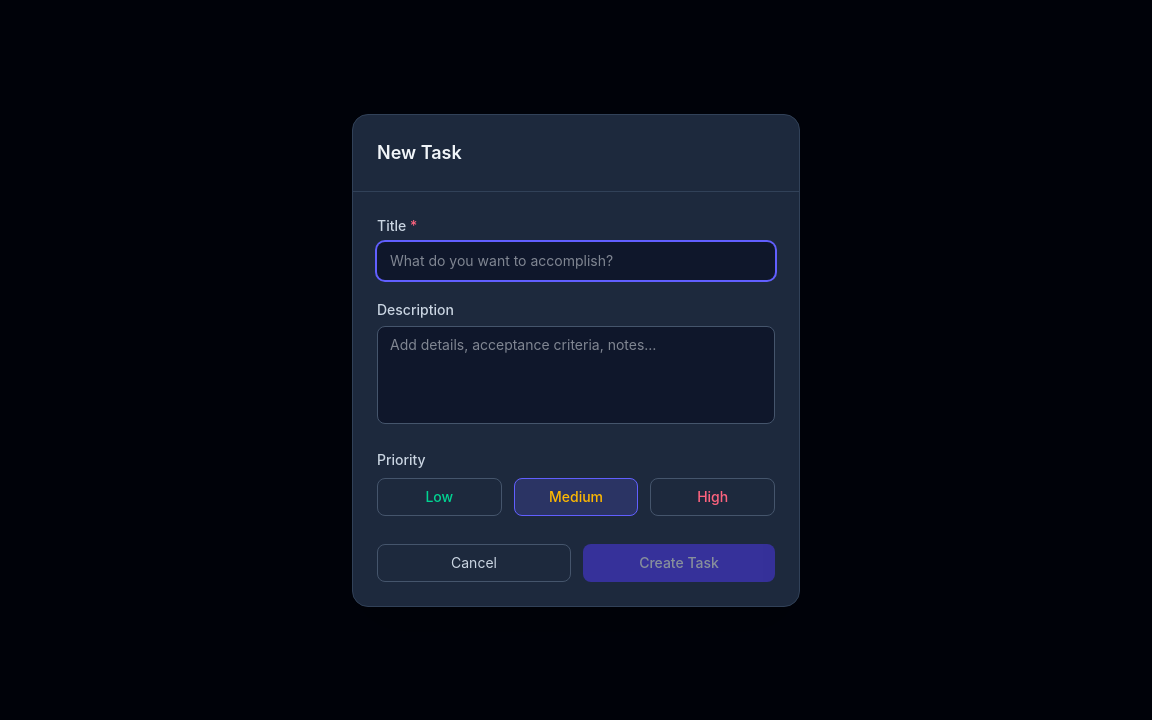
it: TaskForm › enables submit button when title is entered
Type "My new task" into the field with placeholder "What do you want to accomplish?" at (576, 260), box top-left (377, 242), bottom-right (775, 280)
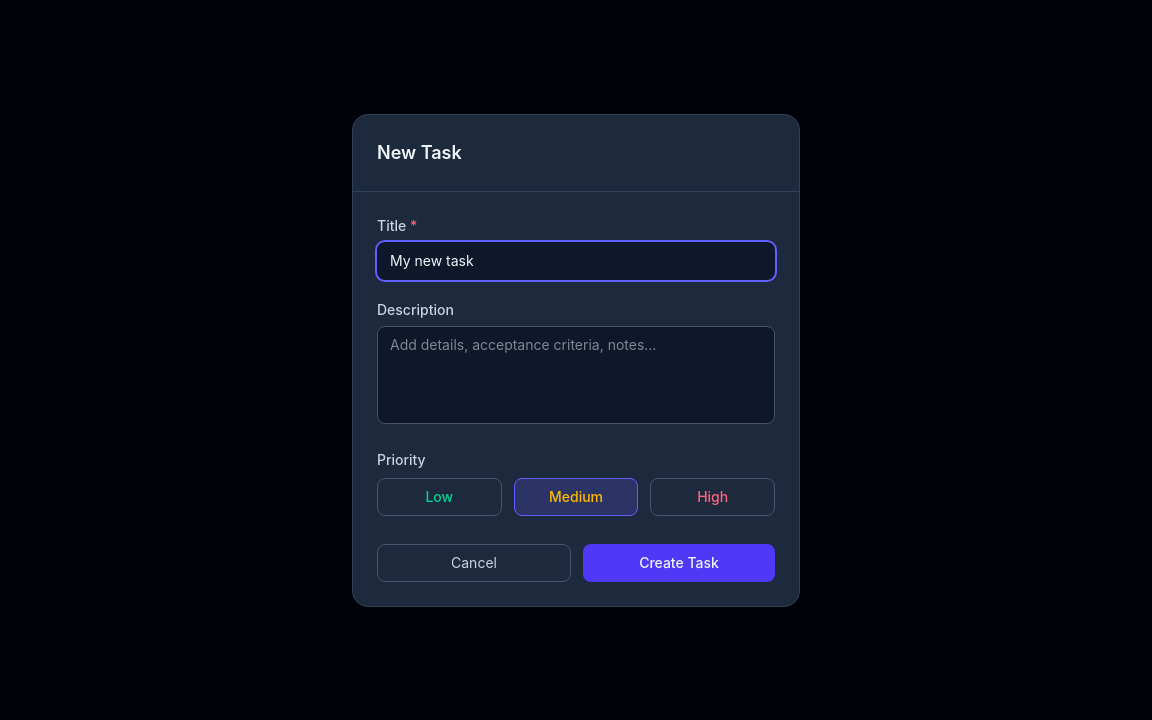
Expected: the button "Create Task" is enabled, top-left (583, 544), bottom-right (775, 582)
